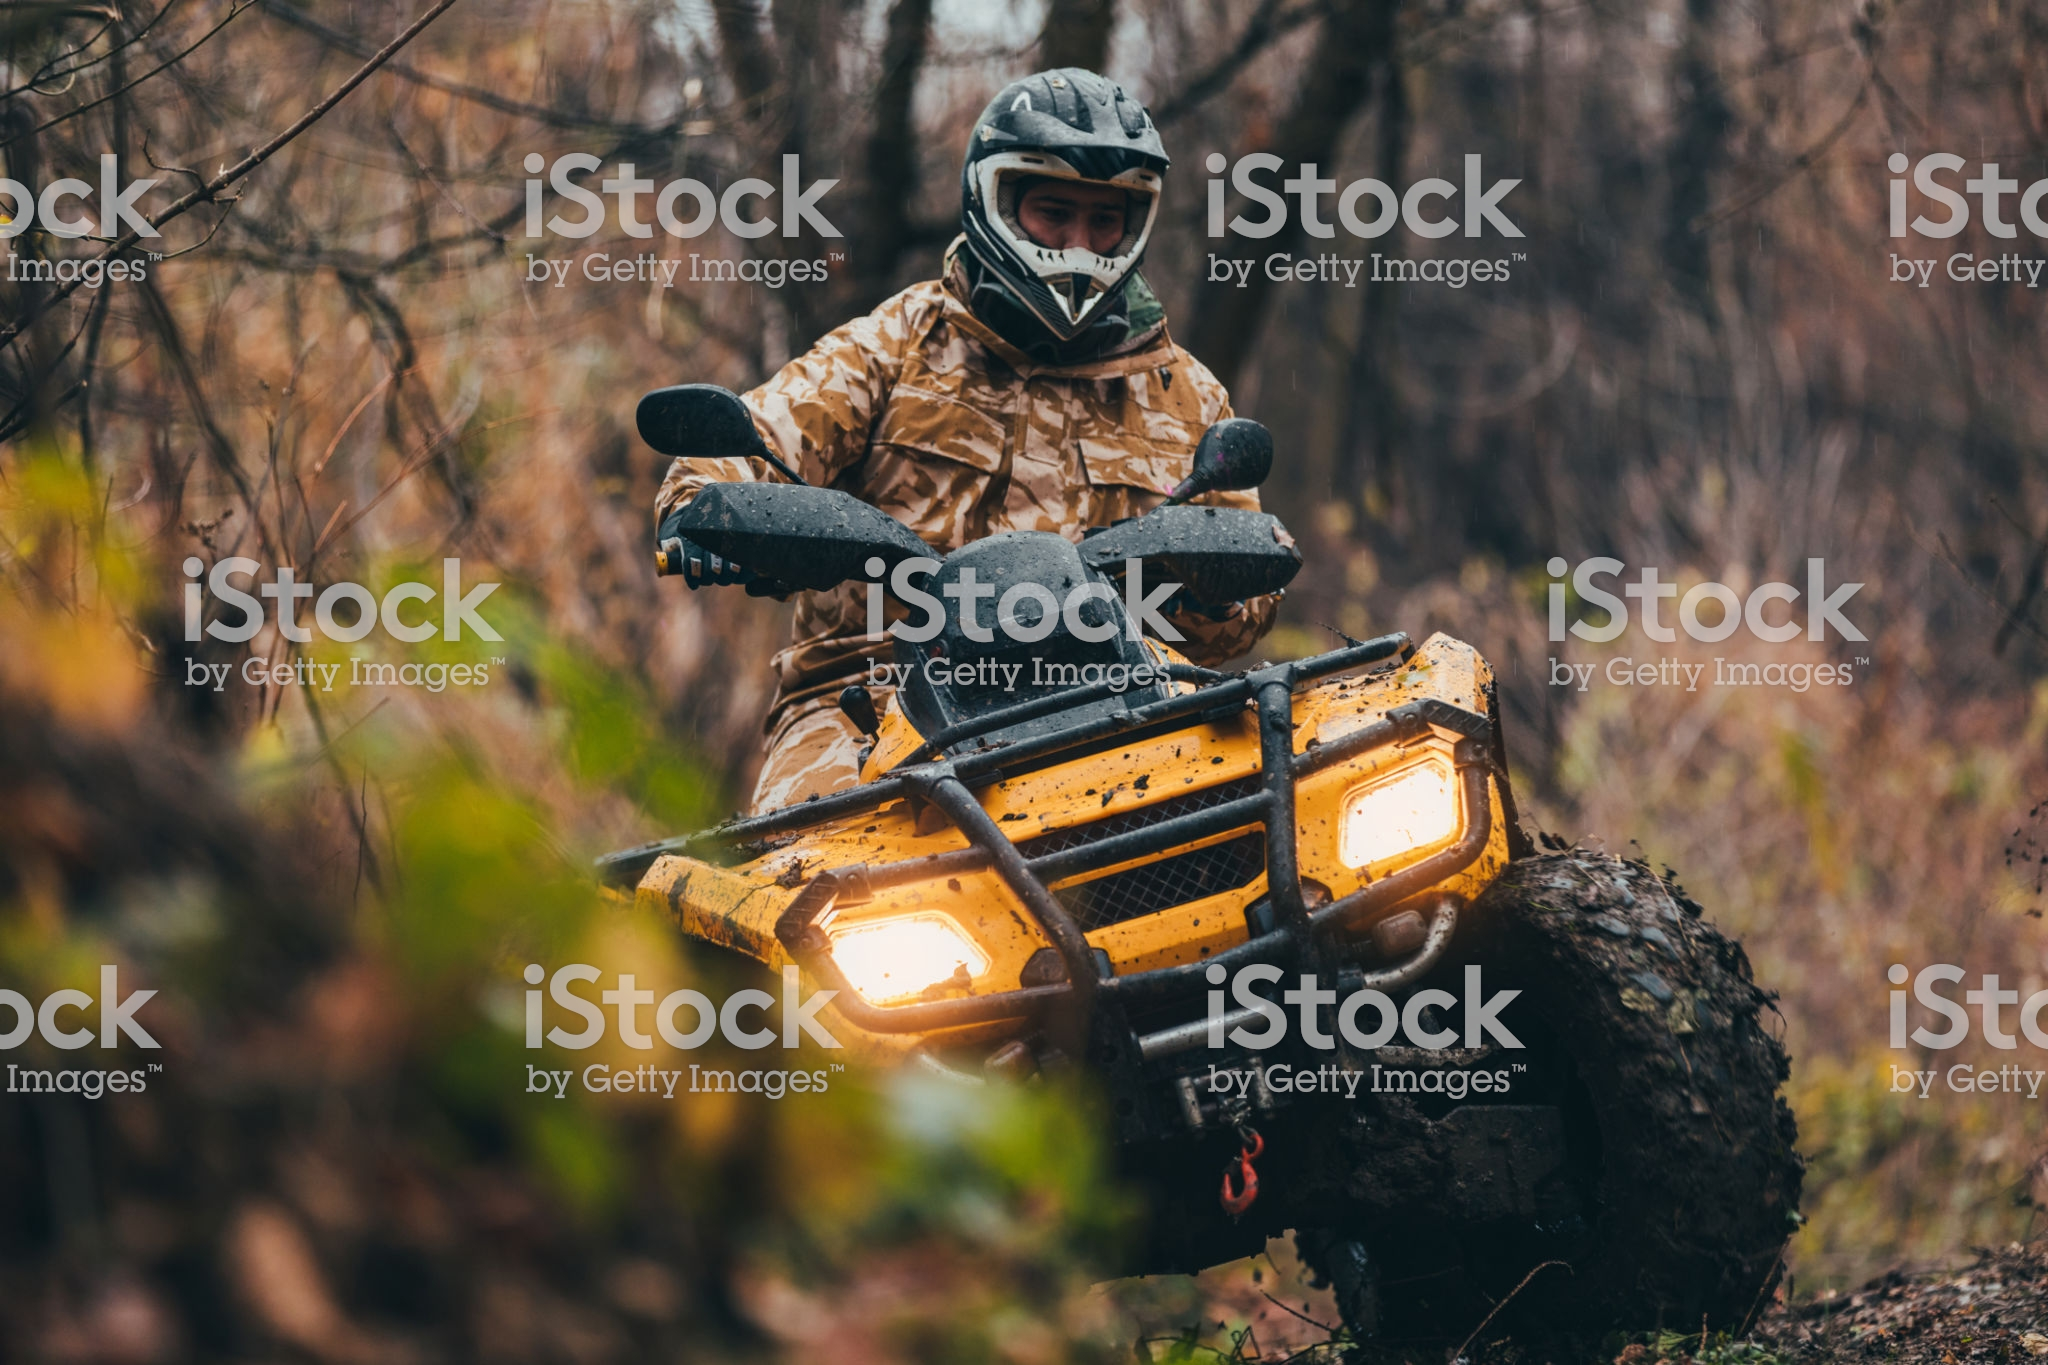helmet: (975, 46, 1192, 334)
